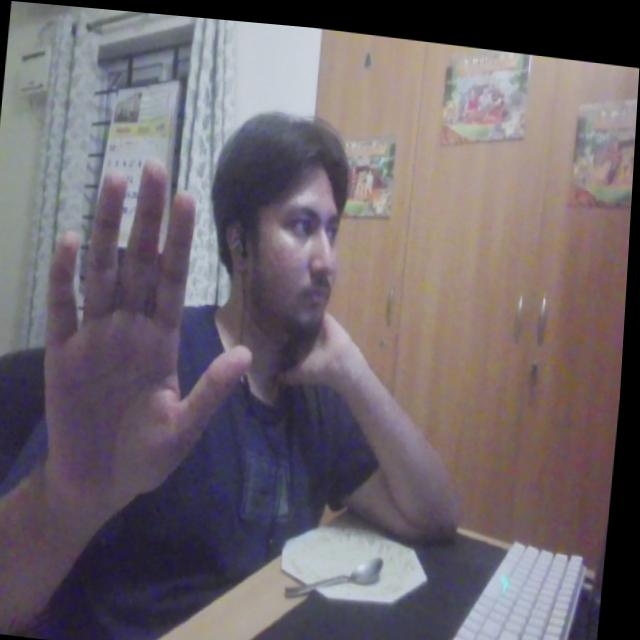hello: (32, 142, 272, 526)
